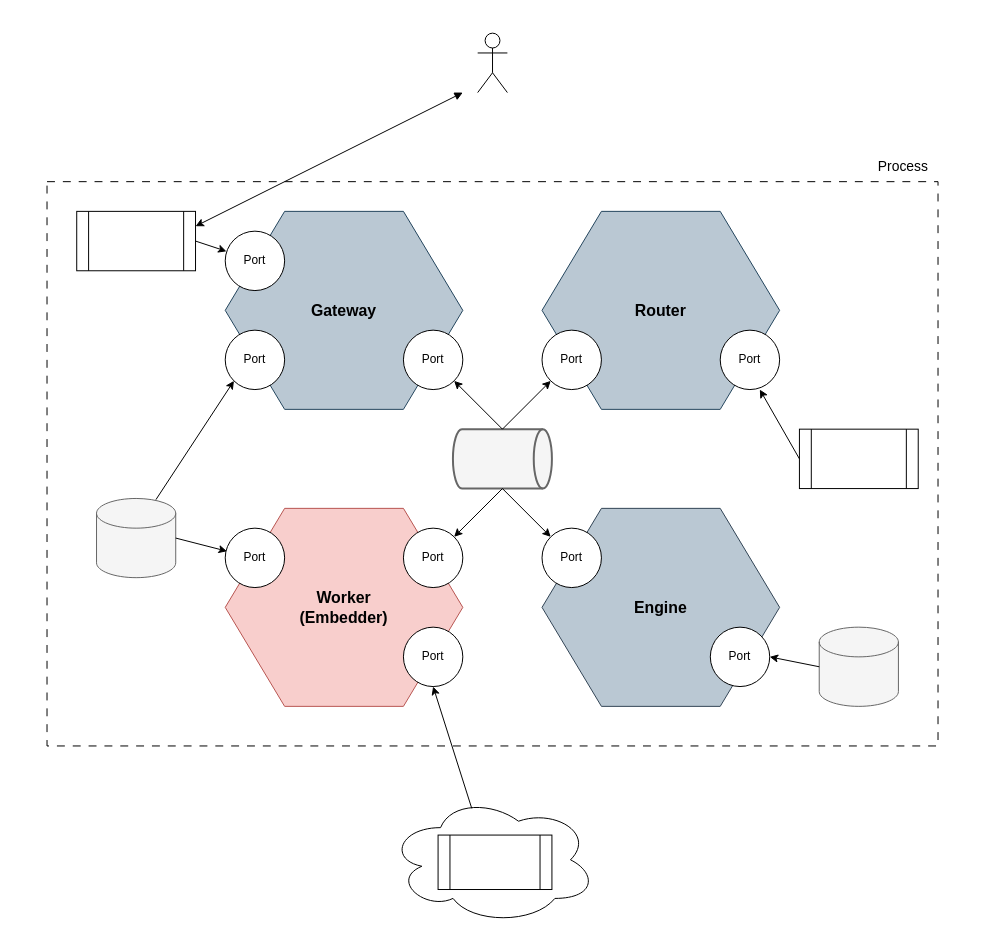
The diagram is 984 pixels wide and 950 high, and some of its shapes have lost their labels. The centre of each missing label's shape, as x and y in pixels:
"Embedder API" belongs at (494,862).
"In-Memory Broker" belongs at (501,458).
"In-Memory Storage" belongs at (136,537).
"In-Memory Vector DB" belongs at (858,666).
"Server" belongs at (136,240).
"Static Classifier" belongs at (858,458).
"Tenant 1" belongs at (492,62).
